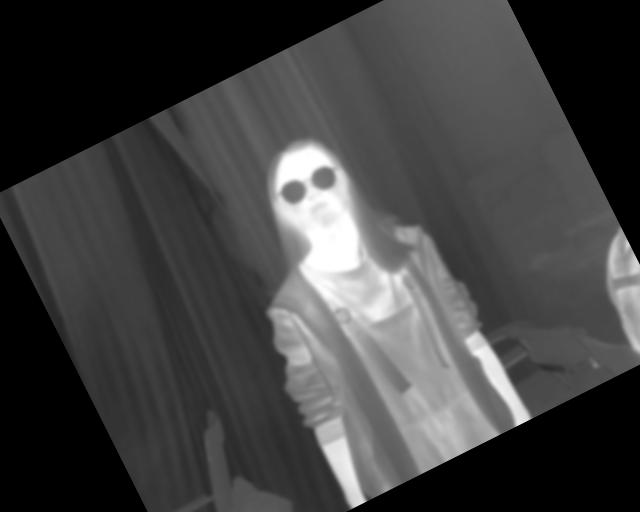face: (251, 127, 364, 246)
